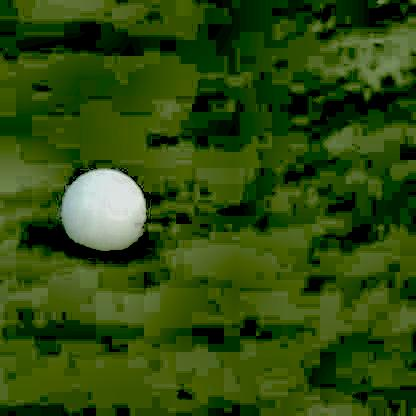golfball: (55, 167, 143, 250)
